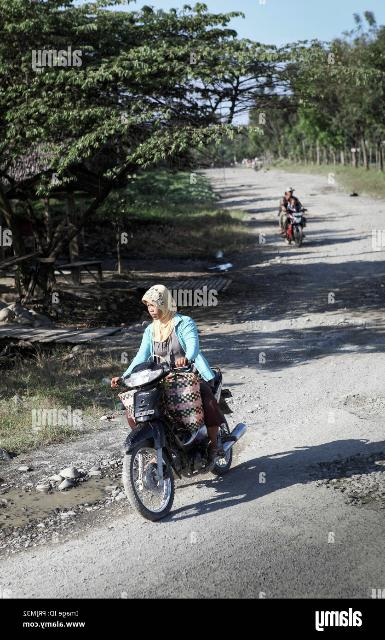motor: (112, 361, 247, 522)
non-helm: (143, 286, 172, 321)
